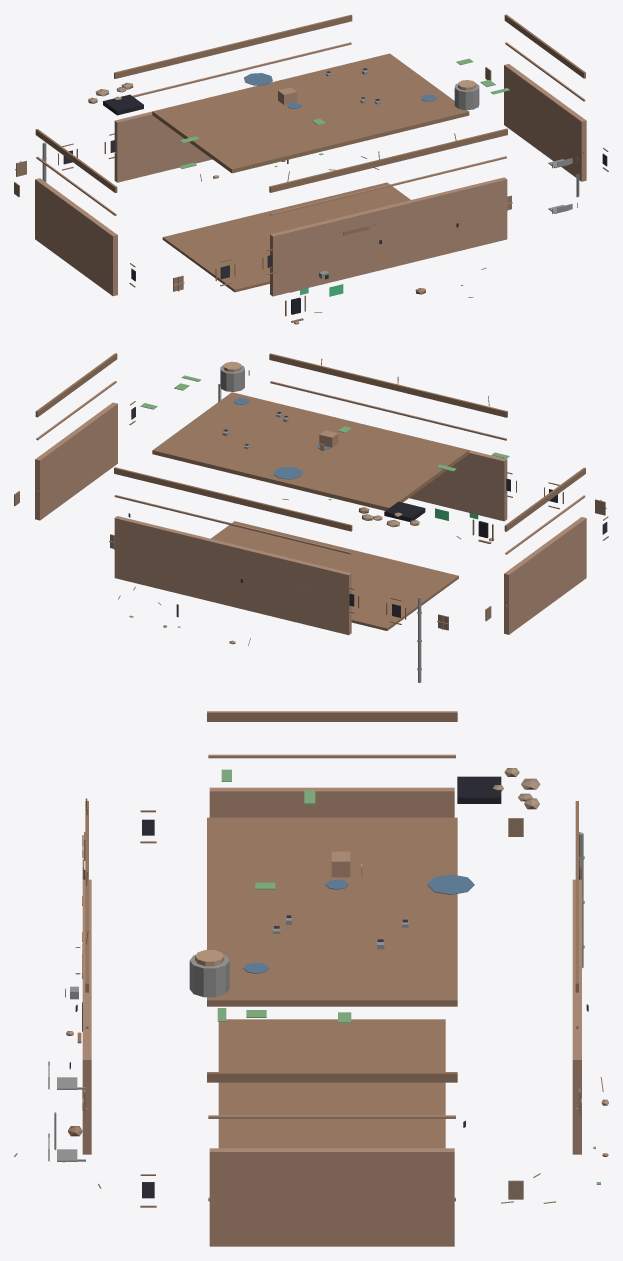
The model's file is building_top_center.glb.
3 renders of one model, top to bottom at view 1: azimuth 30°, elevation 25°; view 2: azimuth 150°, elevation 25°; view 3: azimuth 270°, elevation 25°, orthographic. The views are drawn at different scales.
Parts seen in each view (by area): view 1: BuildingMesh; view 2: BuildingMesh; view 3: BuildingMesh.
Part boxes in pixels (bbox=[...]): BuildingMesh: bbox=[14, 14, 608, 324]; BuildingMesh: bbox=[14, 353, 608, 682]; BuildingMesh: bbox=[14, 711, 608, 1246].
Size of the model in its own units: 9.51 by 3.02 by 6.55.
